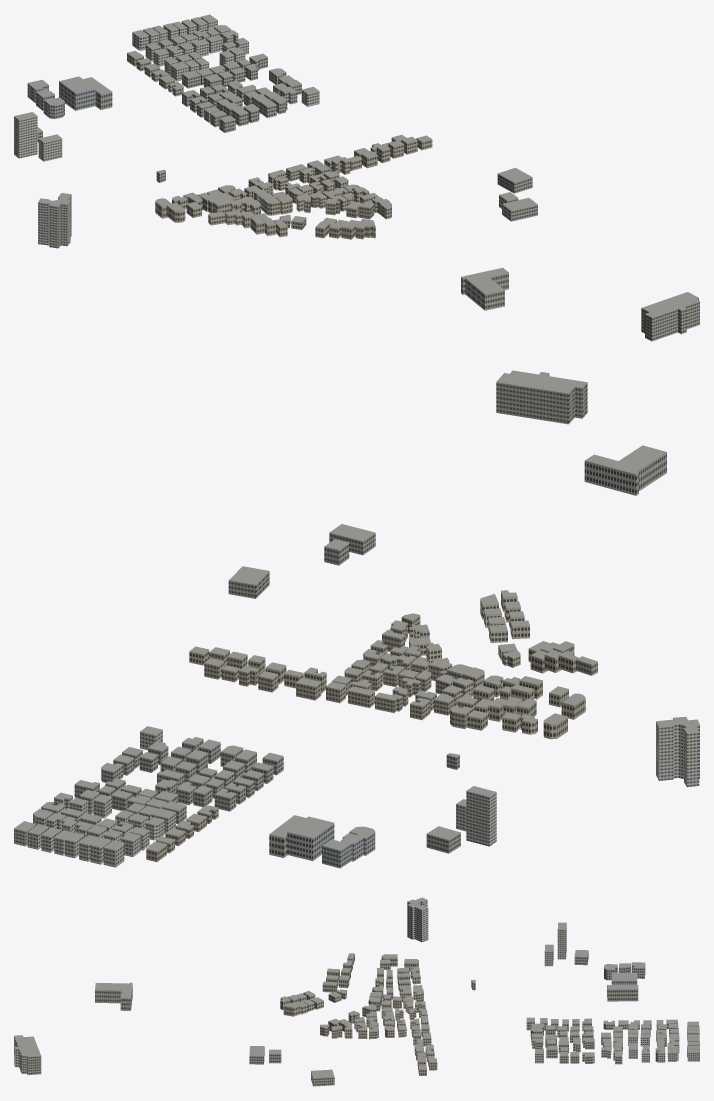
3 views of the same model, one above another, from view 1: azimuth 30°, elevation 25°; view 2: azimuth 150°, elevation 25°; view 3: azimuth 270°, elevation 25° (orthographic). The views are drawn at different scales.
Parts seen in each view (by area): view 1: ctx-roof, ctx-house, ctx-other, ctx-apartments, ctx-commercial; view 2: ctx-roof, ctx-house, ctx-other, ctx-apartments, ctx-commercial; view 3: ctx-roof, ctx-house, ctx-other, ctx-apartments, ctx-commercial.
Boxes of the visible parts, bbox=[...] form: ctx-roof: bbox=[14, 14, 699, 317]; ctx-house: bbox=[127, 53, 432, 239]; ctx-other: bbox=[37, 57, 699, 341]; ctx-apartments: bbox=[14, 17, 319, 248]; ctx-commercial: bbox=[27, 81, 95, 118]; ctx-roof: bbox=[14, 370, 699, 851]; ctx-house: bbox=[146, 591, 597, 861]; ctx-other: bbox=[74, 374, 666, 857]; ctx-apartments: bbox=[14, 718, 699, 867]; ctx-commercial: bbox=[287, 823, 375, 868]; ctx-roof: bbox=[14, 897, 699, 1077]; ctx-house: bbox=[280, 954, 677, 1075]; ctx-other: bbox=[14, 951, 638, 1086]; ctx-apartments: bbox=[407, 900, 699, 1063]; ctx-commercial: bbox=[604, 964, 645, 984].
Bounding box in the file's own units: 530 × 59.87 × 961.
5 materials, 4 textured.
